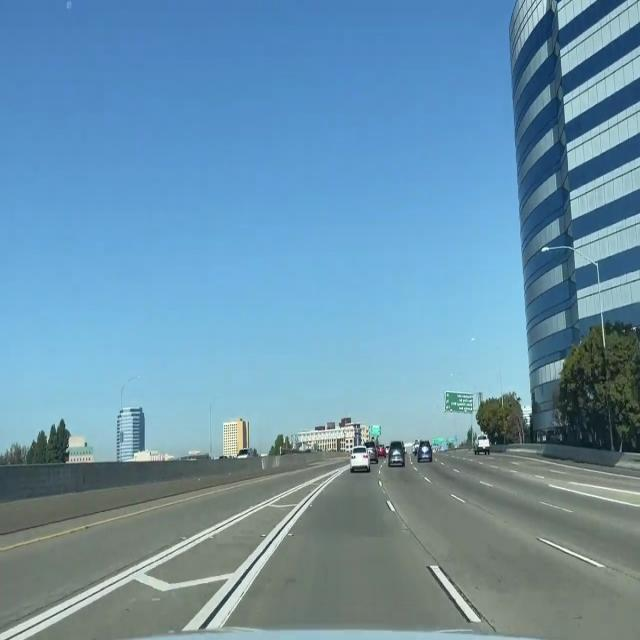street-signs: (445, 390, 473, 414), (370, 424, 381, 437), (433, 436, 446, 446)
